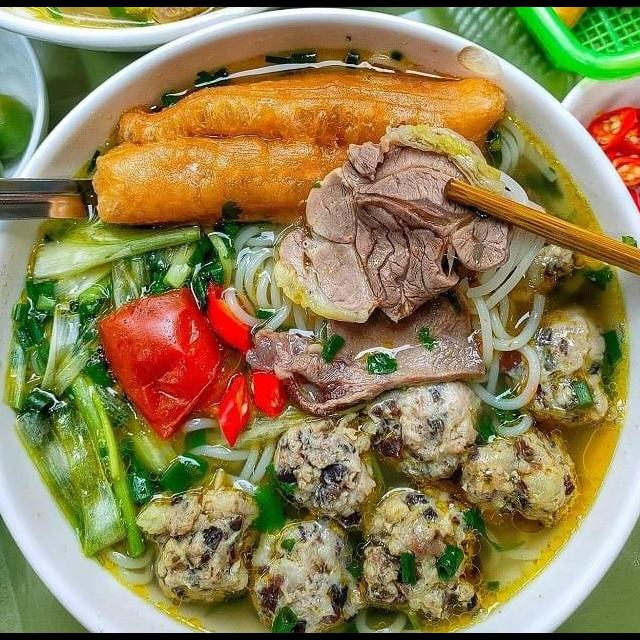bun: (215, 219, 336, 349), (171, 405, 281, 499)
bun moc: (0, 48, 631, 633)
thit heo: (266, 114, 522, 330), (240, 276, 496, 415)
vien moc: (356, 477, 498, 626), (452, 420, 590, 540), (501, 294, 620, 433), (137, 480, 262, 607), (264, 407, 395, 527), (348, 371, 485, 483), (240, 514, 368, 633)
